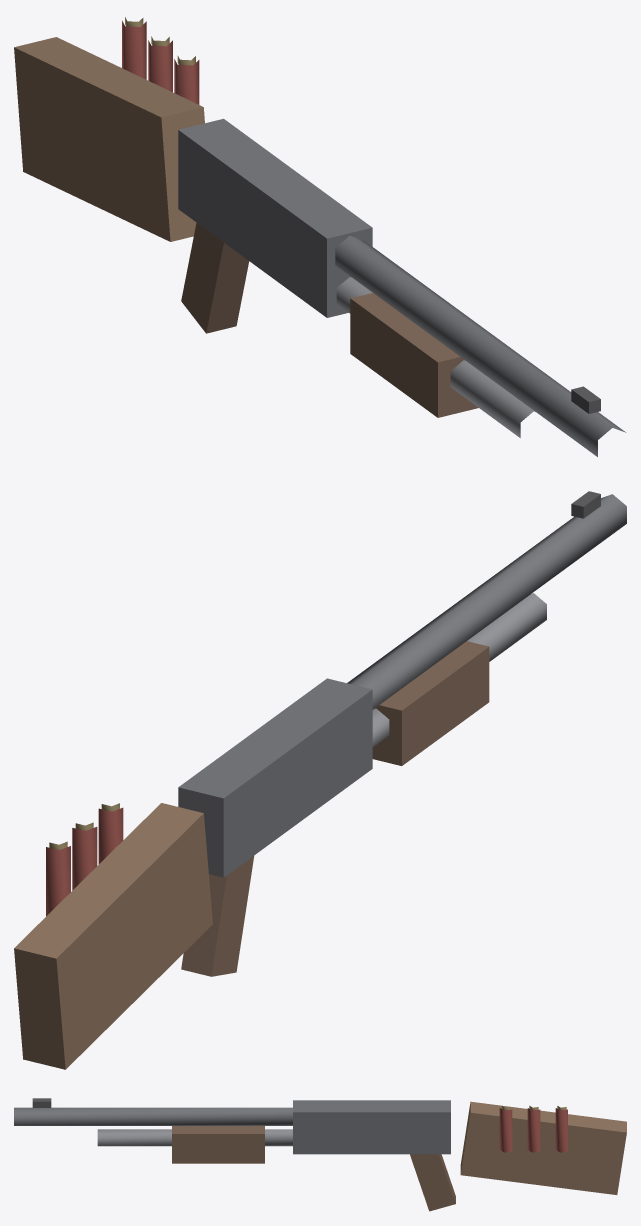
The model's file is escopeta.glb.
3 views of the same model, one above another, from view 1: azimuth 30°, elevation 25°; view 2: azimuth 150°, elevation 25°; view 3: azimuth 270°, elevation 25° (orthographic). The views are drawn at different scales.
Visible parts, largest first — view 1: weapon_body; view 2: weapon_body; view 3: weapon_body.
Boxes of the visible parts, box(x1,y1,x2,y2) form: weapon_body: box(14, 17, 626, 456); weapon_body: box(14, 491, 626, 1069); weapon_body: box(14, 1098, 626, 1211).
Size of the model in its own units: 0.1474 by 0.3983 by 1.98.
